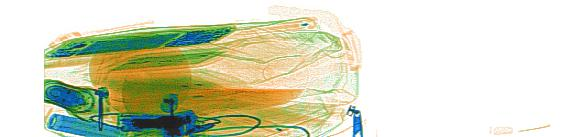battery: (46, 111, 127, 136), (49, 85, 86, 110)
